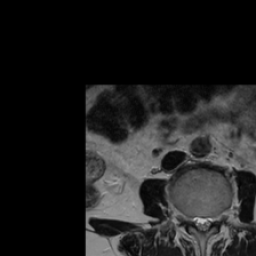CCS_severe_stenosis: (198, 209, 205, 239)
LFS_stenosis: (213, 208, 221, 231)
LLS_normal: (205, 208, 213, 236)
RFS_normal: (183, 207, 190, 233)
RLS_normal: (190, 209, 198, 236)
